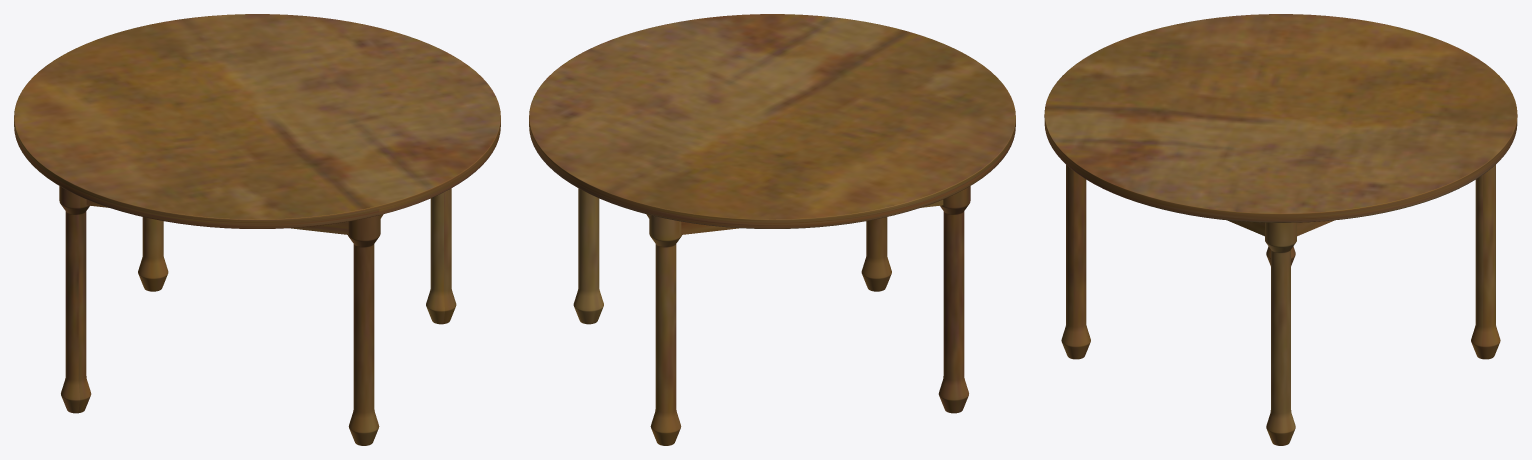
3 renders of one model, left to right at view 1: azimuth 30°, elevation 25°; view 2: azimuth 150°, elevation 25°; view 3: azimuth 270°, elevation 25°, orthographic. The views are drawn at different scales.
Parts seen in each view (by area): view 1: Table, Leg, Support; view 2: Table, Leg, Support; view 3: Table, Leg, Support.
Boxes of the visible parts, x1,y1,x2,y2 form: Table: (14,14,500,228); Leg: (59,186,456,445); Support: (86,199,383,234); Table: (529,14,1015,228); Leg: (573,186,970,445); Support: (646,199,943,234); Table: (1044,14,1517,222); Leg: (1061,165,1500,445); Support: (1227,220,1334,236).
Bounding box in the file's own units: 258 × 146 × 258.
Materials: 1 (1 with a texture image).
